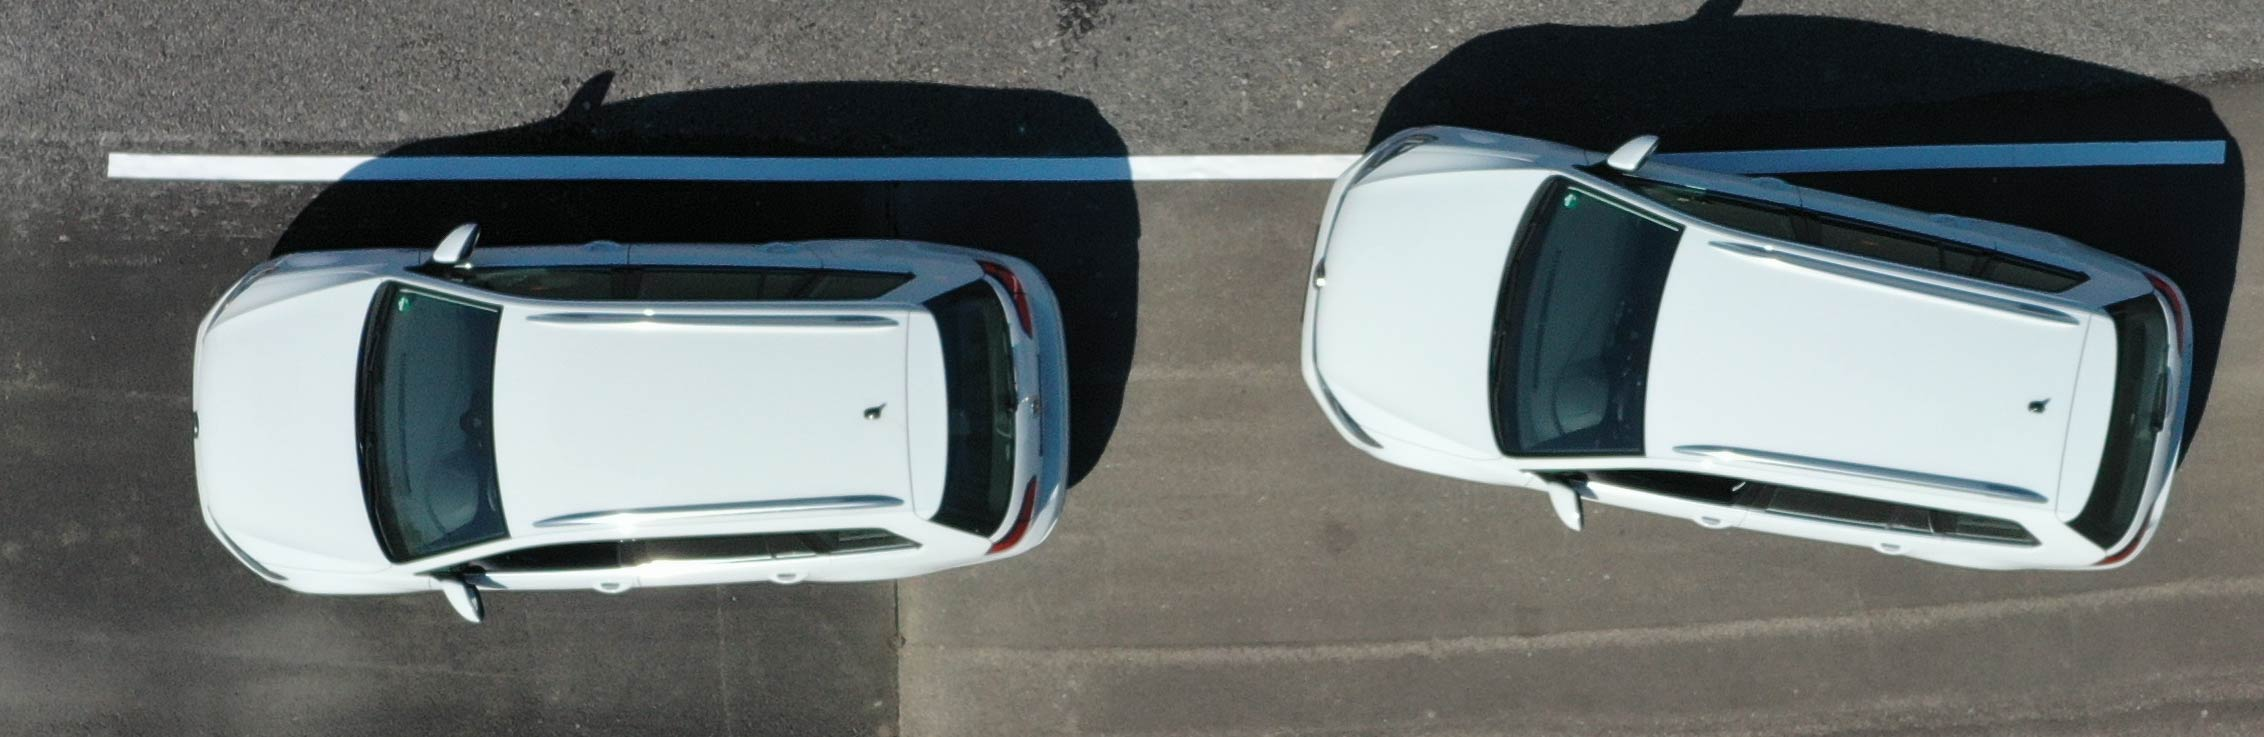Car: (1284, 97, 2208, 587), (178, 210, 1079, 624)
LaneMark: (97, 145, 1310, 192), (1753, 142, 2235, 173)
